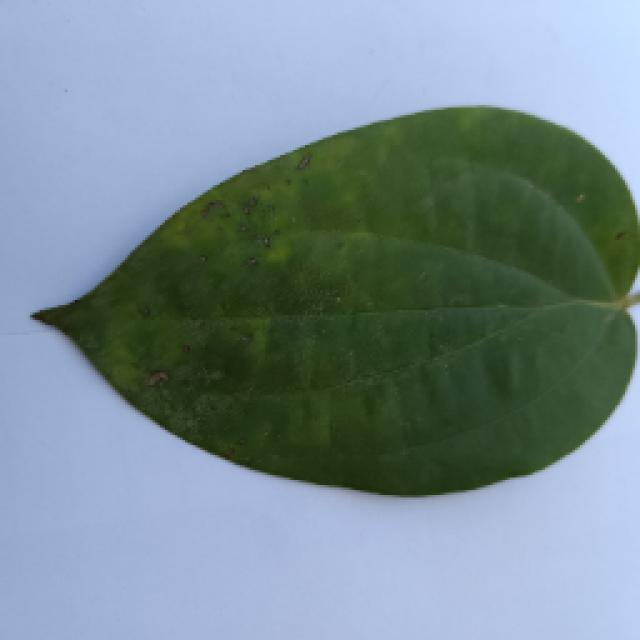slow-decline: (10, 98, 628, 498)
